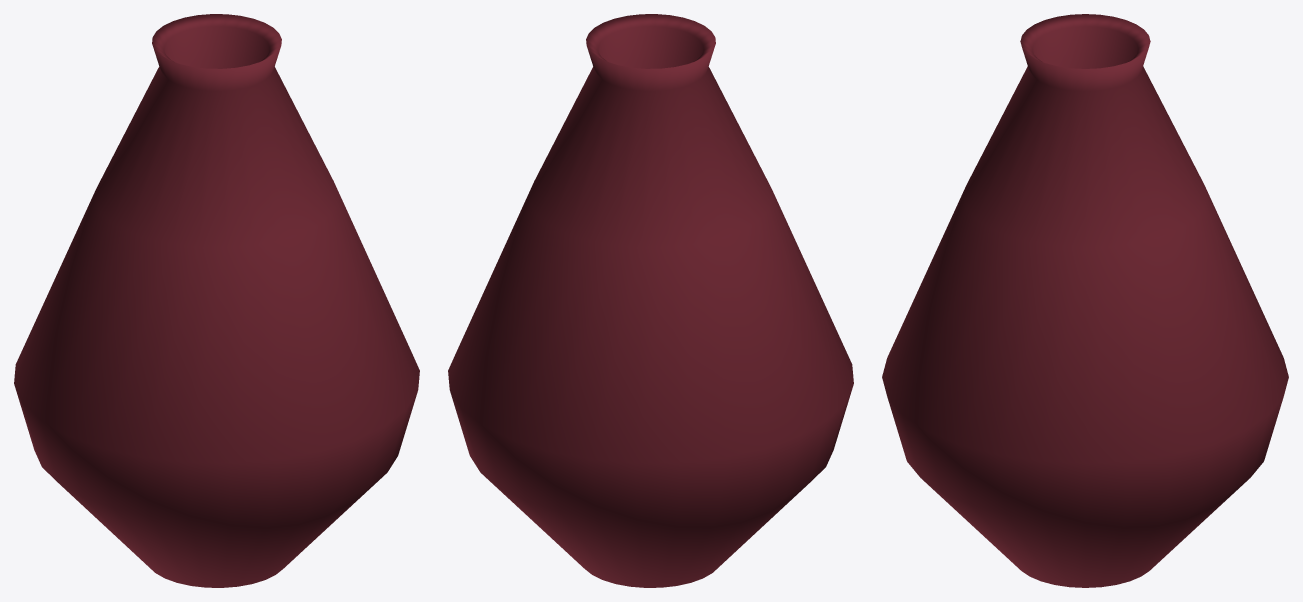
File: i_vase_5_0.glb
The picture shows the model from 3 angles, left to right: view 1: azimuth 30°, elevation 25°; view 2: azimuth 150°, elevation 25°; view 3: azimuth 270°, elevation 25°; orthographic projection.
Parts seen in each view (by area): view 1: o; view 2: o; view 3: o.
Part boxes in pixels (x1,y1,x2,y2): o: (14,14,419,587); o: (448,14,853,587); o: (882,14,1288,587).
Size of the model in its own units: 0.2 by 0.28 by 0.2.
